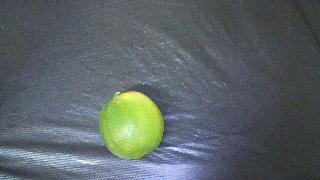LOCAL: (99, 91, 164, 159)
